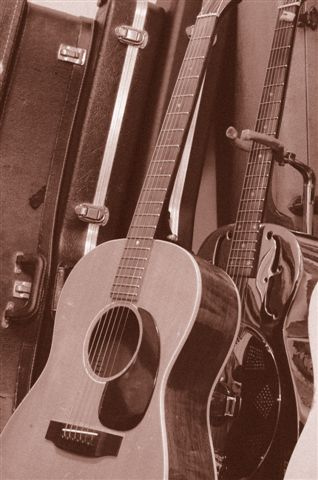guitar: (1, 3, 246, 480)
